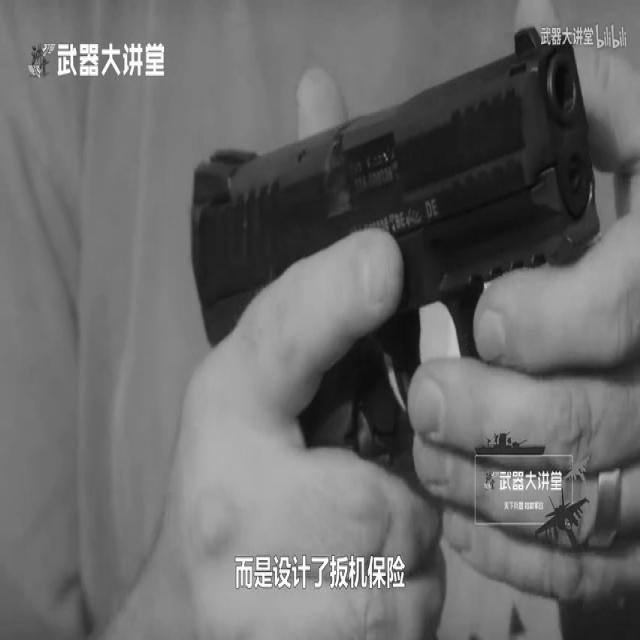Hand-Gun: (169, 21, 606, 498)
